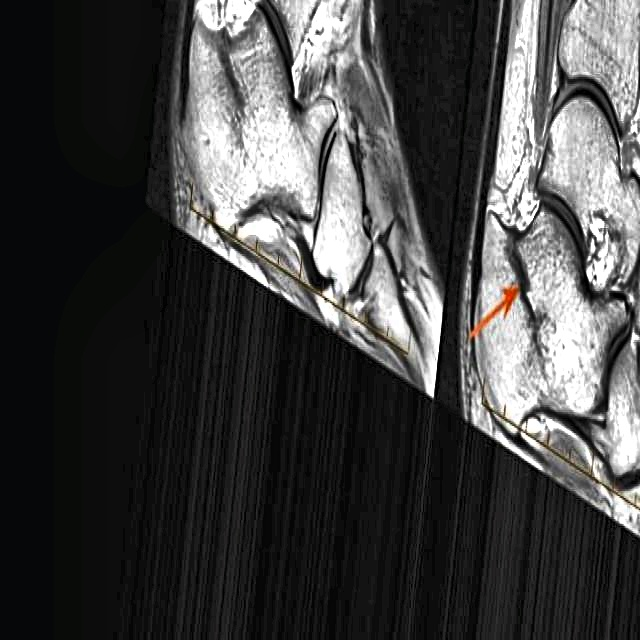Oblique Displaced: (501, 208, 547, 328)
